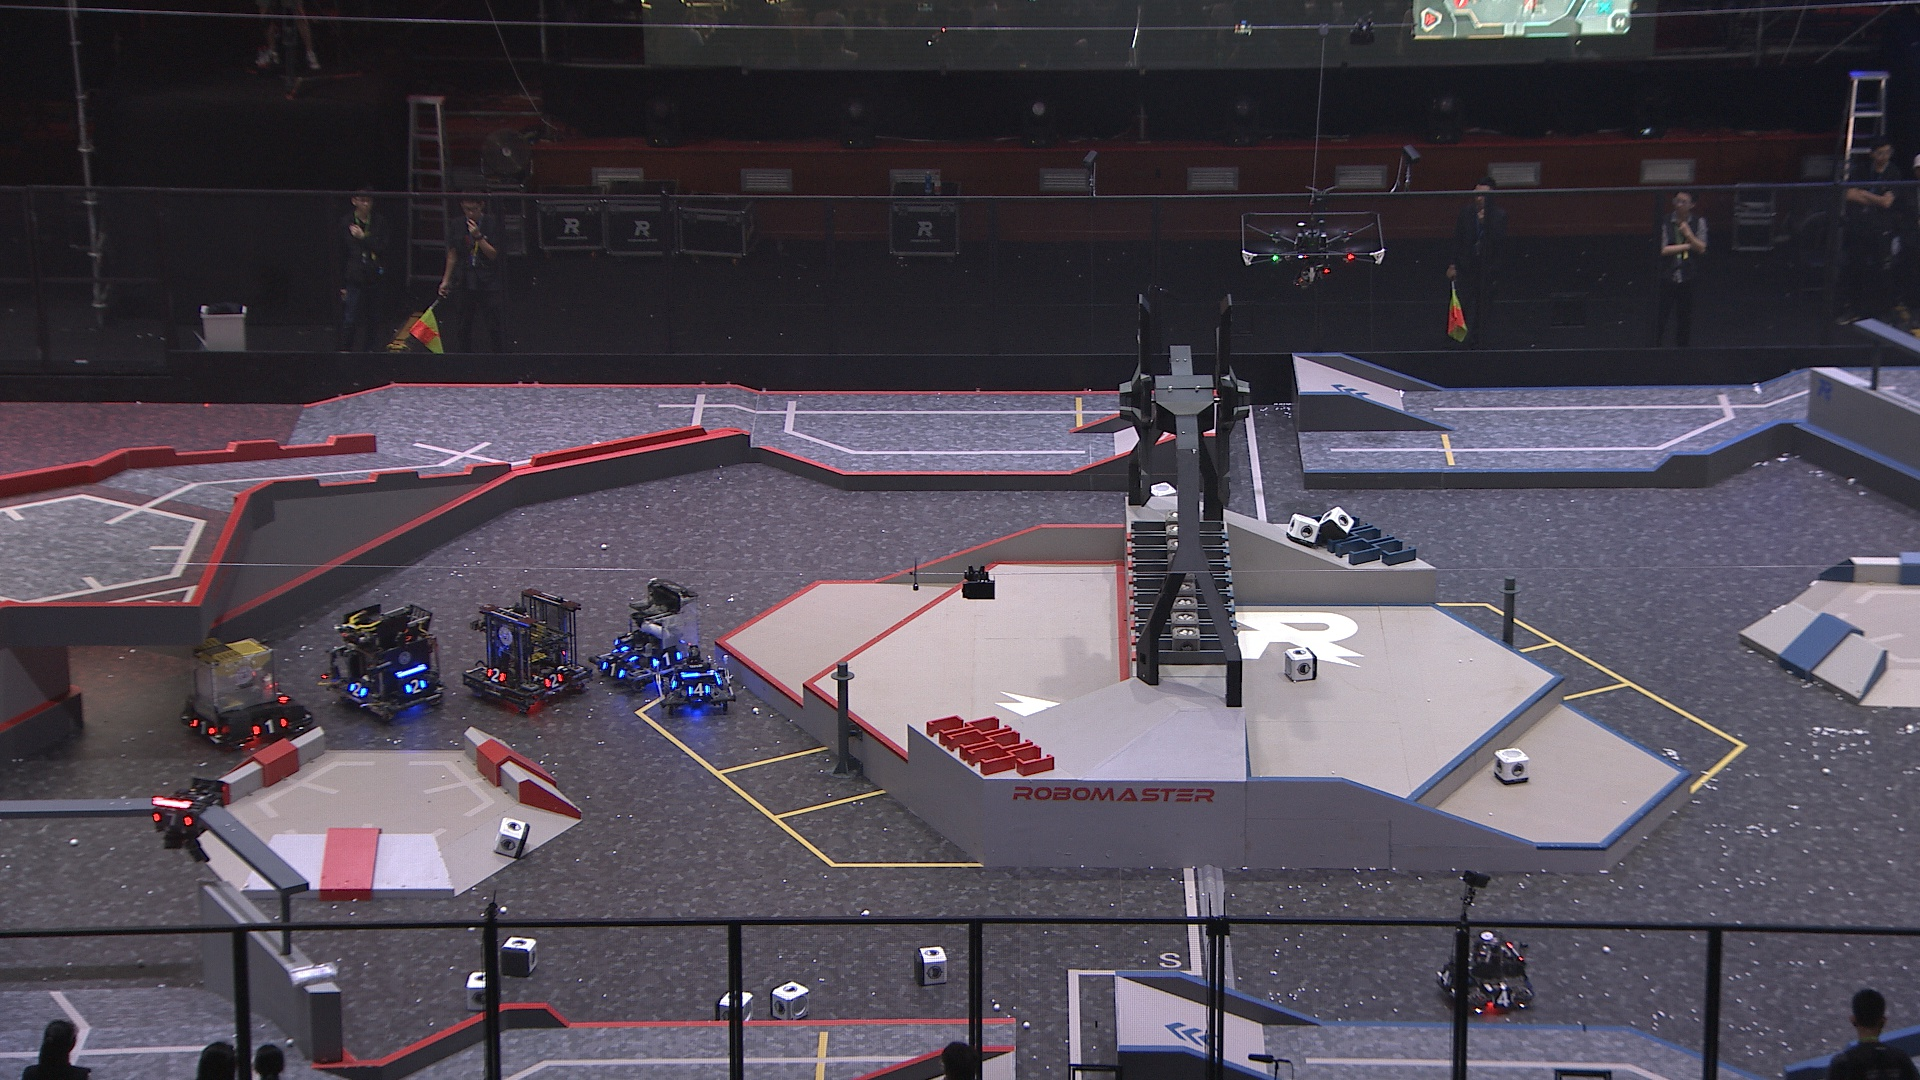armor: (148, 808, 193, 828), (603, 655, 632, 680), (249, 717, 289, 735), (189, 713, 218, 736), (654, 650, 684, 670), (684, 680, 711, 702), (1490, 989, 1519, 1007), (541, 669, 564, 690), (404, 676, 427, 698), (612, 646, 637, 665), (483, 666, 506, 684), (1437, 963, 1455, 986), (348, 680, 367, 700), (665, 671, 680, 690)
car: (177, 632, 314, 752), (465, 589, 596, 713), (320, 603, 443, 728), (589, 575, 705, 688), (1433, 928, 1534, 1014), (650, 642, 736, 713)
watcher: (142, 771, 233, 861)
